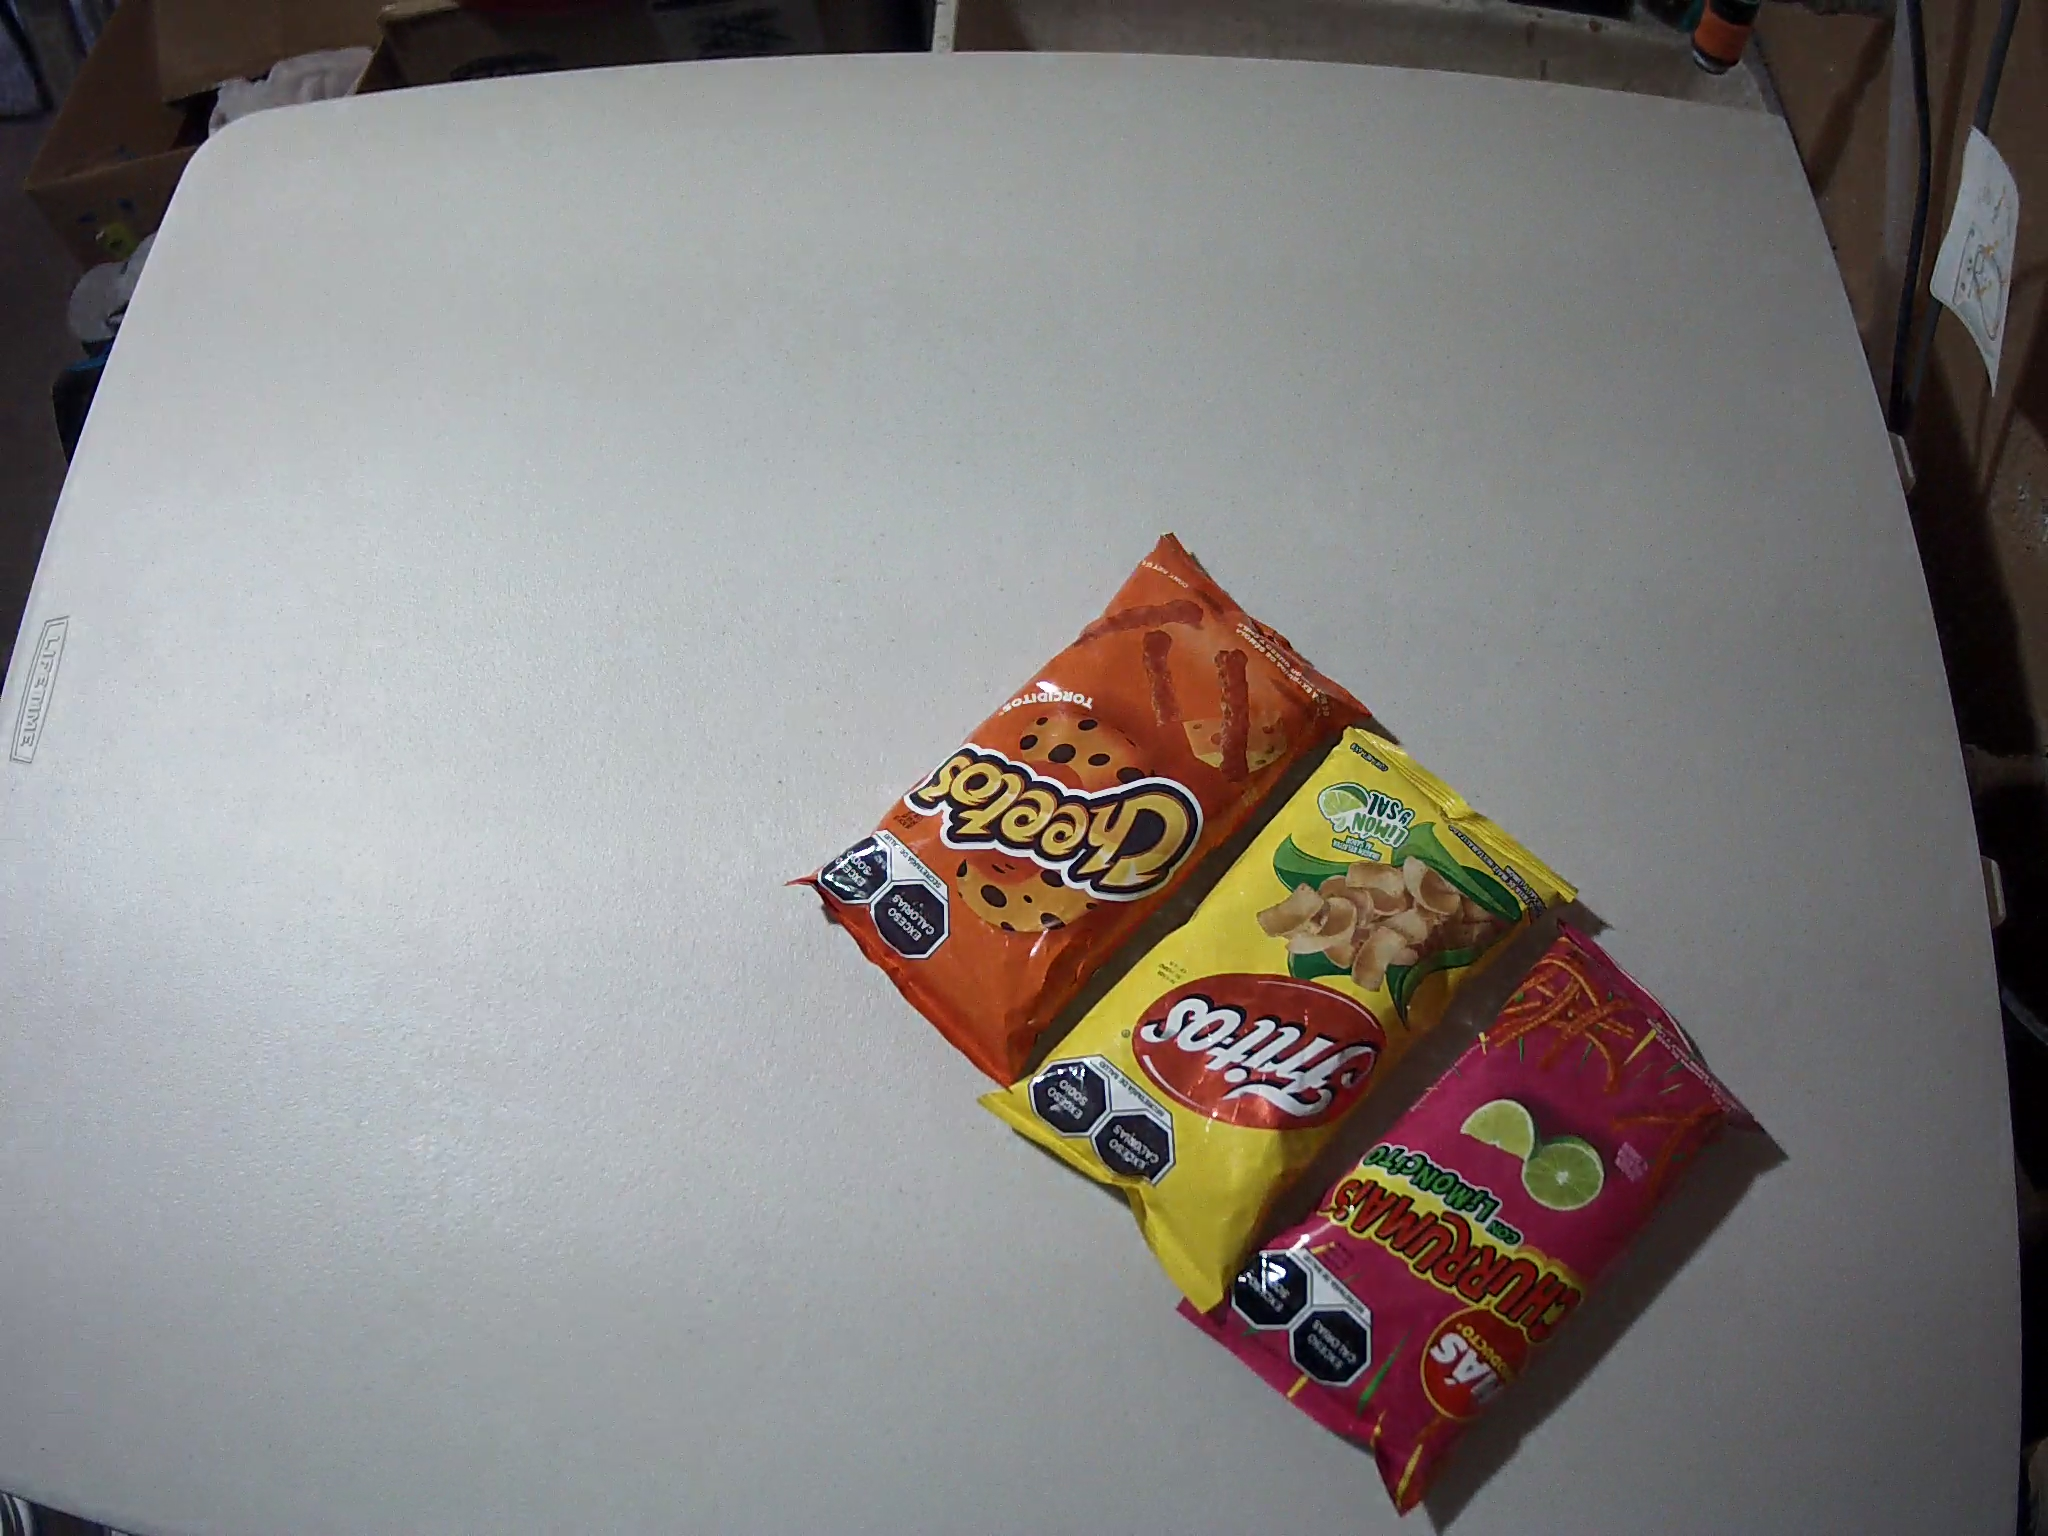CheetosTorciditos_55_F: (785, 532, 1372, 1083)
Churrumais_70_F: (1177, 926, 1759, 1521)
FritosSalLimon_65_F: (977, 724, 1579, 1313)
